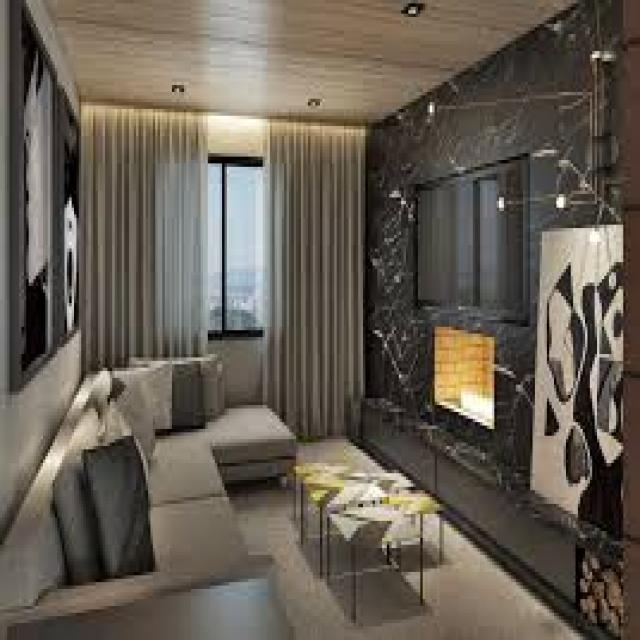Sofa: (0, 353, 302, 640)
Table: (294, 454, 432, 618)
